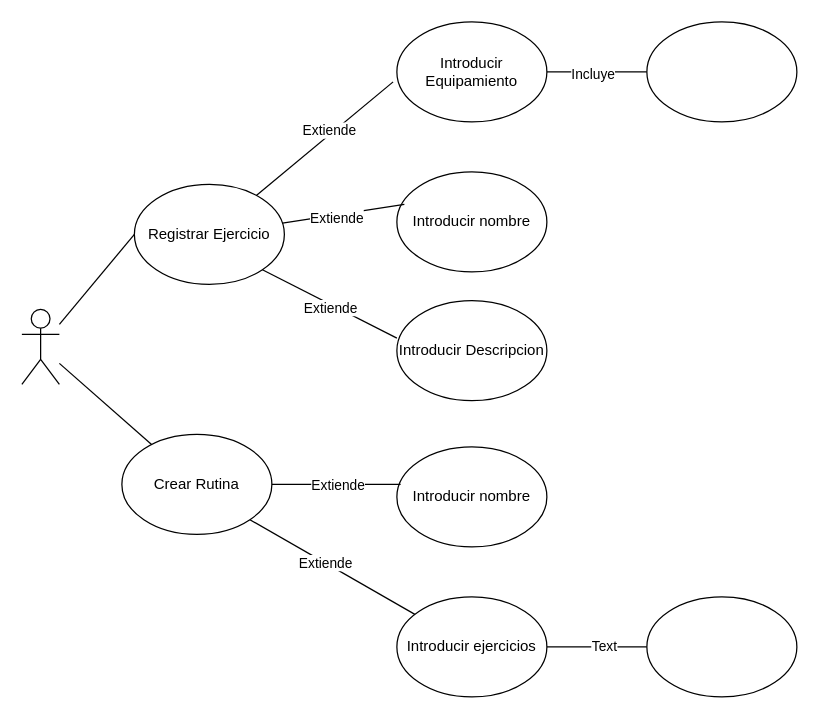
Image size: 819x719. Some labels were removed from this diagram. The centre of each missing label's shape, as x and y in pixels:
Actor: the point at 40,346
Buscar Ejercicios: the point at 721,646
Buscar Equipamiento: the point at 721,71
